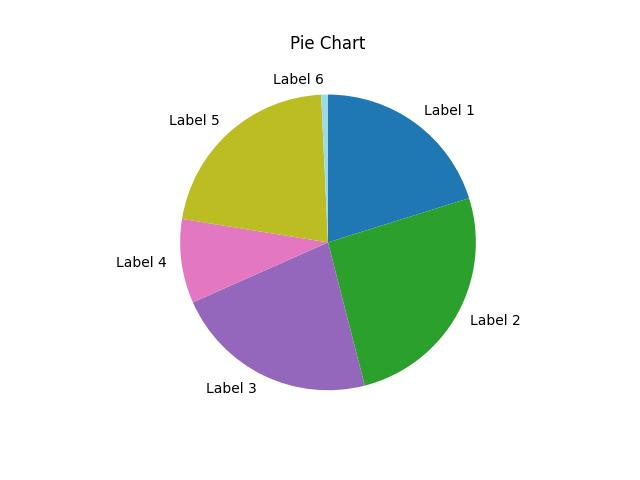sector: (329, 198, 478, 385), (193, 242, 365, 391), (181, 94, 329, 242), (329, 91, 471, 244), (177, 219, 331, 304)
